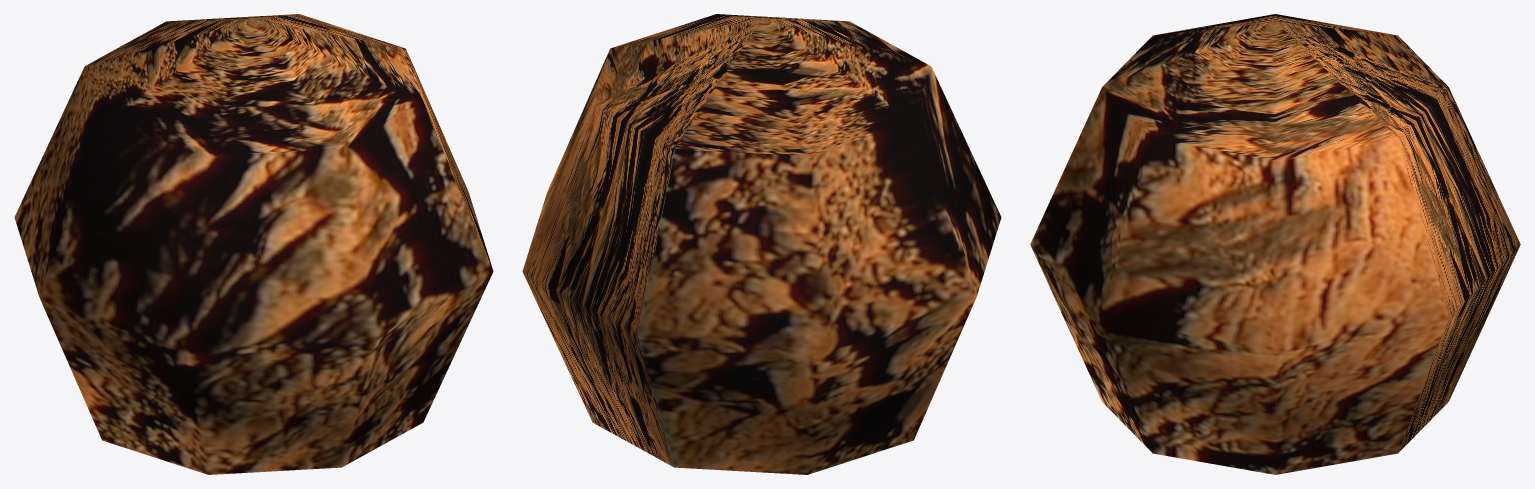
Rendered from asteroid.obj.
3 renders of one model, left to right at view 1: azimuth 30°, elevation 25°; view 2: azimuth 150°, elevation 25°; view 3: azimuth 270°, elevation 25°, orthographic.
Parts seen in each view (by area): view 1: asteroid.obj; view 2: asteroid.obj; view 3: asteroid.obj.
Part boxes in pixels (<box>): asteroid.obj: <box>14,14,493,474</box>; asteroid.obj: <box>522,14,1001,474</box>; asteroid.obj: <box>1030,14,1520,474</box>.
Size of the model in its own units: 1 by 1 by 1.
